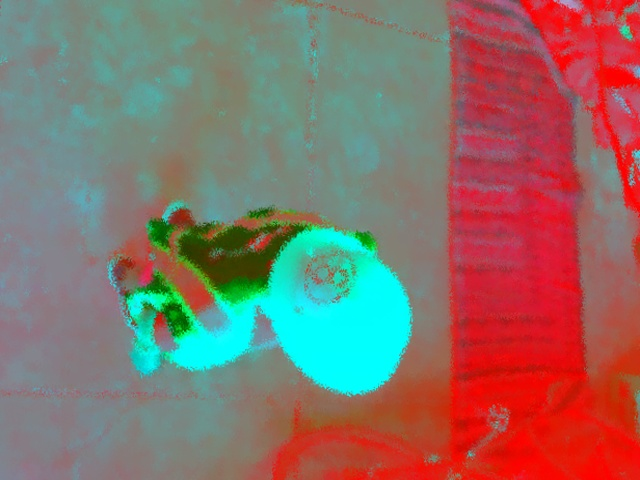eight: (304, 248, 353, 304)
